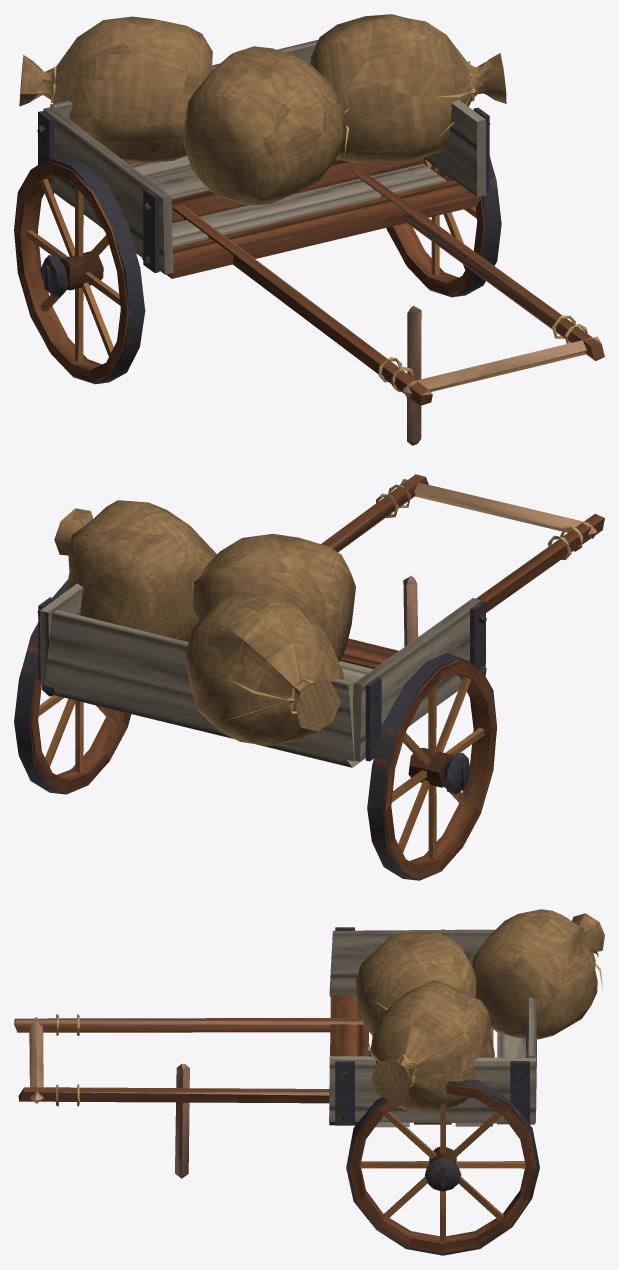
Rendered from SM_Hand_Cart_LOD2.gltf.
3 renders of one model, top to bottom at view 1: azimuth 30°, elevation 25°; view 2: azimuth 150°, elevation 25°; view 3: azimuth 270°, elevation 25°, orthographic. The views are drawn at different scales.
Visible parts, largest first — view 1: SM_Hand_Cart_LOD2; view 2: SM_Hand_Cart_LOD2; view 3: SM_Hand_Cart_LOD2.
Part boxes in pixels (bbox=[...]): SM_Hand_Cart_LOD2: bbox=[14, 14, 604, 445]; SM_Hand_Cart_LOD2: bbox=[14, 474, 604, 880]; SM_Hand_Cart_LOD2: bbox=[14, 909, 604, 1255].
Bounding box in the file's own units: 2 × 1.28 × 2.84.
Materials: 1 (1 with a texture image).
